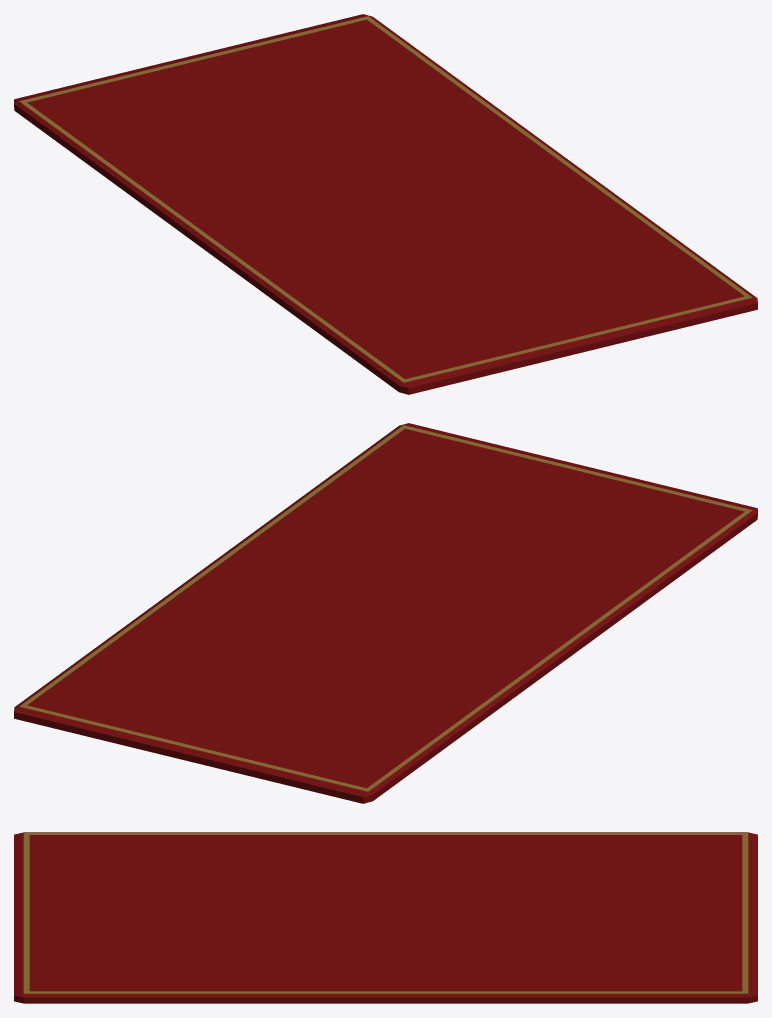
Rendered from Rug.fbx.
3 renders of one model, top to bottom at view 1: azimuth 30°, elevation 25°; view 2: azimuth 150°, elevation 25°; view 3: azimuth 270°, elevation 25°, orthographic. The views are drawn at different scales.
Parts seen in each view (by area): view 1: Plane; view 2: Plane; view 3: Plane.
Part boxes in pixels (x1,y1,x2,y2): Plane: [14, 14, 757, 394]; Plane: [14, 423, 757, 803]; Plane: [14, 832, 757, 1003].
Size of the model in its own units: 1079 by 565 by 15.15.
